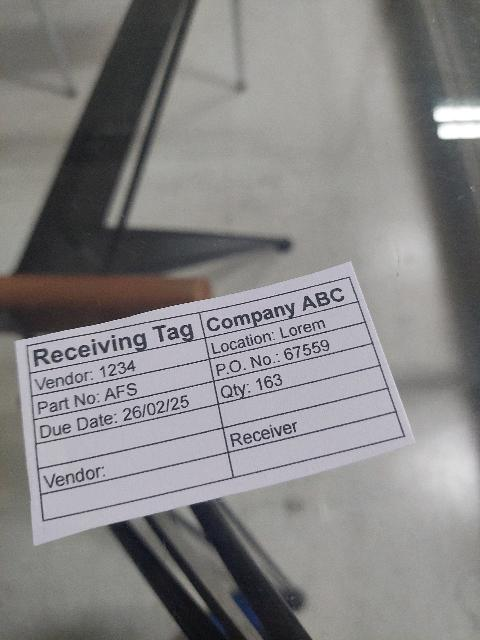PO no: (209, 322, 373, 382)
part no: (33, 359, 217, 423)
qty: (213, 343, 381, 407)
tags: (14, 262, 416, 549)
